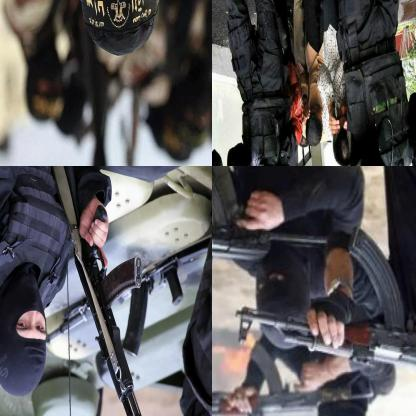rifle: (54, 166, 168, 415), (230, 224, 415, 376), (43, 240, 210, 360), (212, 166, 332, 264), (212, 342, 373, 415)
